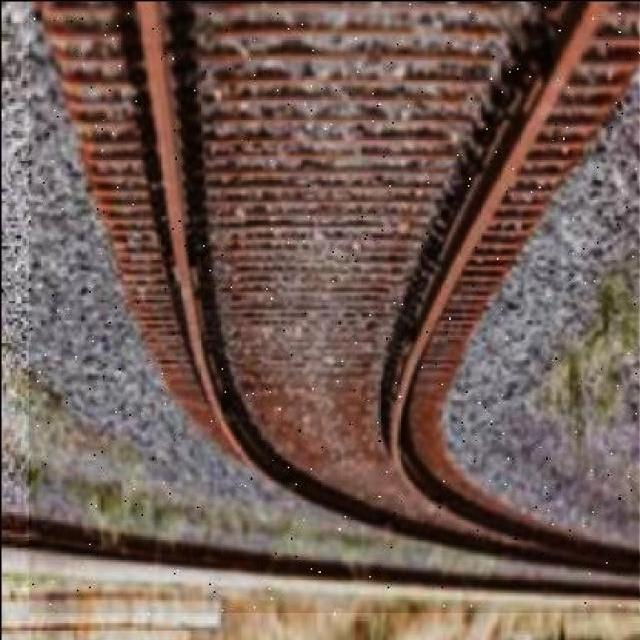rail: (30, 4, 640, 614)
